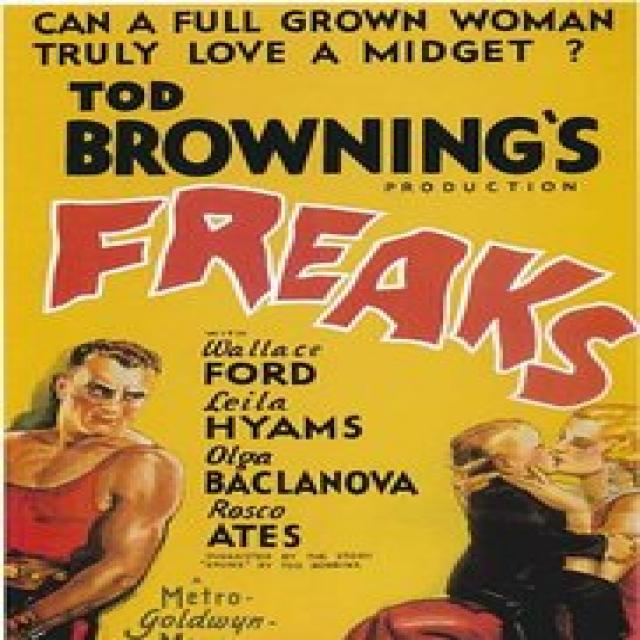movie-judul: (19, 178, 638, 408)
picture: (348, 406, 640, 640), (7, 341, 190, 638)
